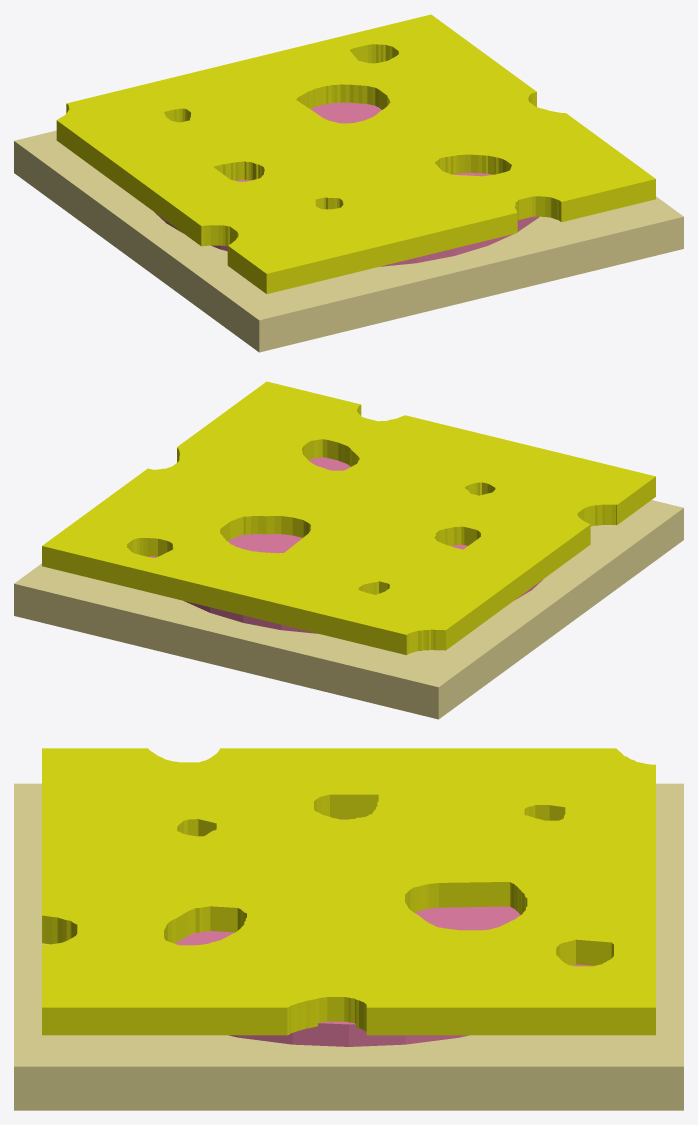
Rendered from бутерброд.glb.
The picture shows the model from 3 angles, top to bottom: view 1: azimuth 30°, elevation 25°; view 2: azimuth 150°, elevation 25°; view 3: azimuth 270°, elevation 25°; orthographic projection. The views are drawn at different scales.
Visible parts, largest first — view 1: 1, 2, 3; view 2: 1, 2, 3; view 3: 1, 2, 3.
Part boxes in pixels (<box>): 1: <box>56,14,655,293</box>; 2: <box>14,130,683,352</box>; 3: <box>154,102,538,266</box>; 1: <box>42,381,655,655</box>; 2: <box>14,500,683,719</box>; 3: <box>148,457,543,633</box>; 1: <box>42,748,655,1035</box>; 2: <box>14,783,683,1110</box>; 3: <box>175,819,593,1046</box>.
Size of the model in its own units: 2.32 by 0.3492 by 2.32.
